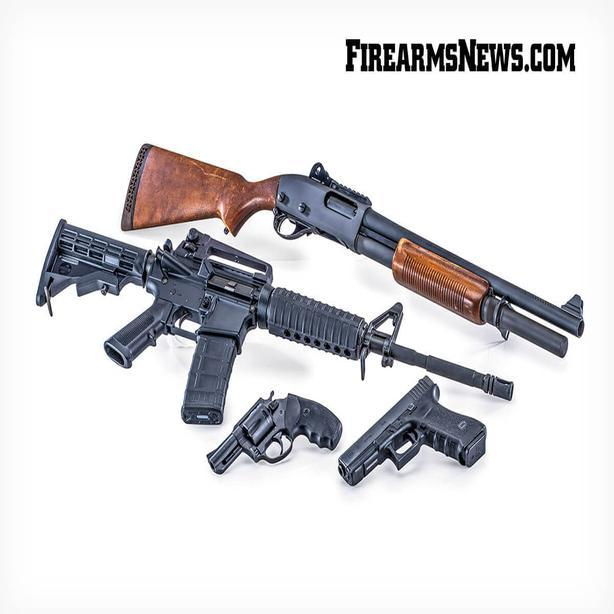Firearm: (32, 194, 524, 448), (116, 118, 589, 359), (327, 393, 505, 492), (207, 386, 343, 494)
